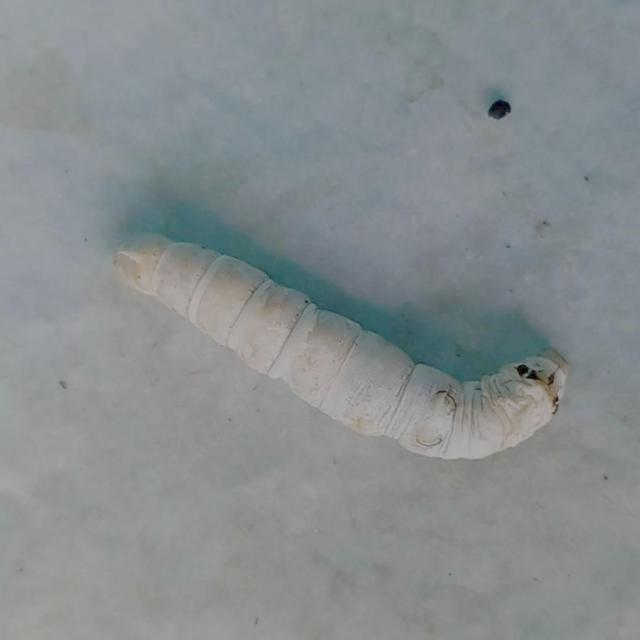Grasserie: (82, 178, 591, 501)
